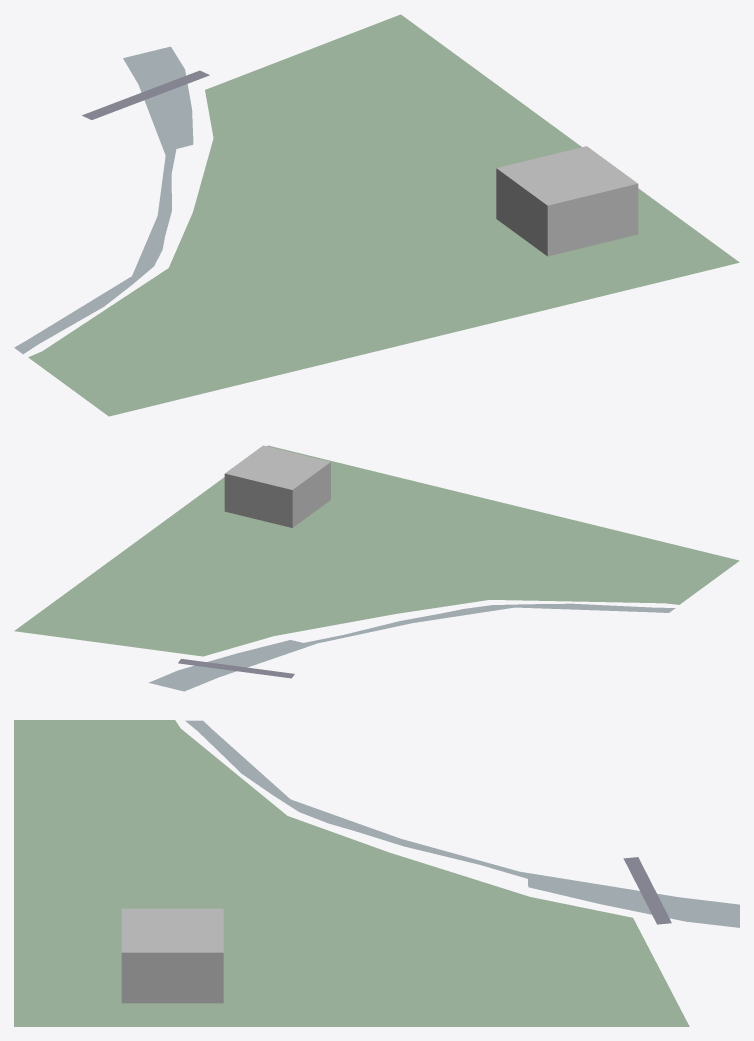
File: 93_102_mid.glb
3 views of the same model, one above another, from view 1: azimuth 30°, elevation 25°; view 2: azimuth 150°, elevation 25°; view 3: azimuth 270°, elevation 25° (orthographic). The views are drawn at different scales.
Bounding box in the file's own units: 500 × 39.17 × 500.
